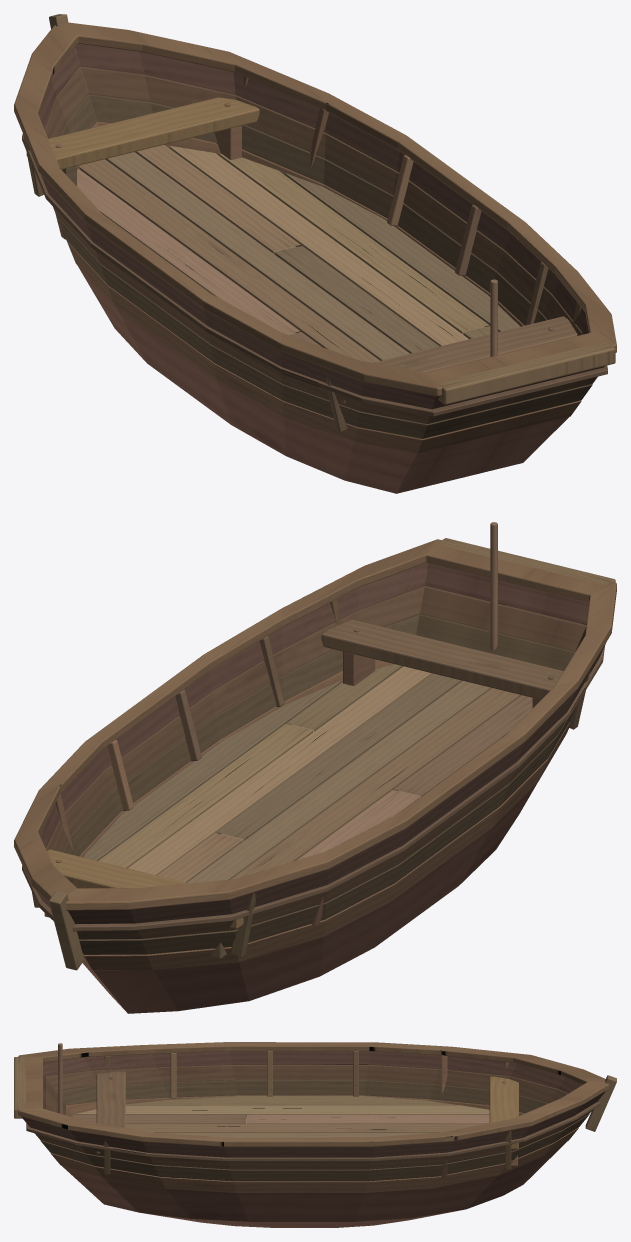
The model's file is fleet_boat_mcp.glb.
3 renders of one model, top to bottom at view 1: azimuth 30°, elevation 25°; view 2: azimuth 150°, elevation 25°; view 3: azimuth 270°, elevation 25°, orthographic. The views are drawn at different scales.
Parts seen in each view (by area): view 1: Continuous shaped gunwale, Side strake 03, Side strake 01, Side strake 02, Closed lower timber hull, Side strake 00, Floorboard 04, Floorboard 03, Floorboard 06, Floorboard 07 section 1, End thwart 01, Floorboard 02 section 1 (+9 smaller); view 2: Continuous shaped gunwale, Side strake 03, Side strake 01, Side strake 02, Closed lower timber hull, Side strake 00, Floorboard 06, Floorboard 04, End thwart 00, Floorboard 03, Floorboard 05 section 0, Floorboard 08 (+14 smaller); view 3: Closed lower timber hull, Continuous shaped gunwale, Side strake 03, Side strake 01, Side strake 02, Side strake 00, Floorboard 01, Floorboard 03, Fine outer rubbing strip, Floorboard 00, Floorboard 02 section 1, End thwart 00 (+9 smaller).
Part boxes in pixels (bbox=[...]): Continuous shaped gunwale: bbox=[14, 22, 616, 396]; Side strake 03: bbox=[39, 43, 604, 409]; Side strake 01: bbox=[53, 93, 592, 438]; Side strake 02: bbox=[45, 66, 597, 423]; Closed lower timber hull: bbox=[77, 265, 568, 493]; Side strake 00: bbox=[53, 121, 581, 453]; Floorboard 04: bbox=[105, 152, 409, 360]; Floorboard 03: bbox=[79, 159, 379, 362]; Floorboard 06: bbox=[169, 146, 468, 346]; Floorboard 07 section 1: bbox=[218, 153, 489, 333]; End thwart 01: bbox=[26, 97, 259, 169]; Floorboard 02 section 1: bbox=[77, 168, 300, 334]; Continuous shaped gunwale: bbox=[14, 539, 616, 910]; Side strake 03: bbox=[36, 563, 606, 924]; Side strake 01: bbox=[63, 613, 575, 954]; Side strake 02: bbox=[46, 585, 586, 939]; Closed lower timber hull: bbox=[82, 784, 536, 1013]; Side strake 00: bbox=[80, 659, 569, 970]; Floorboard 06: bbox=[128, 666, 432, 875]; Floorboard 04: bbox=[187, 681, 491, 883]; End thwart 00: bbox=[321, 619, 563, 699]; Floorboard 03: bbox=[231, 688, 521, 879]; Floorboard 05 section 0: bbox=[217, 673, 462, 840]; Floorboard 08: bbox=[83, 680, 342, 860]; Closed lower timber hull: bbox=[62, 1142, 566, 1227]; Continuous shaped gunwale: bbox=[18, 1042, 609, 1146]; Side strake 03: bbox=[21, 1051, 605, 1157]; Side strake 01: bbox=[40, 1080, 589, 1181]; Side strake 02: bbox=[35, 1065, 592, 1169]; Side strake 00: bbox=[50, 1095, 578, 1193]; Floorboard 01: bbox=[76, 1105, 489, 1117]; Floorboard 03: bbox=[125, 1123, 485, 1132]; Fine outer rubbing strip: bbox=[26, 1102, 600, 1161]; Floorboard 00: bbox=[125, 1096, 456, 1105]; Floorboard 02 section 1: bbox=[247, 1114, 489, 1123]; End thwart 00: bbox=[96, 1071, 125, 1153].
Bounding box in the file's own units: 1.81 × 1.37 × 4.63.
Materials: 1 (1 with a texture image).
